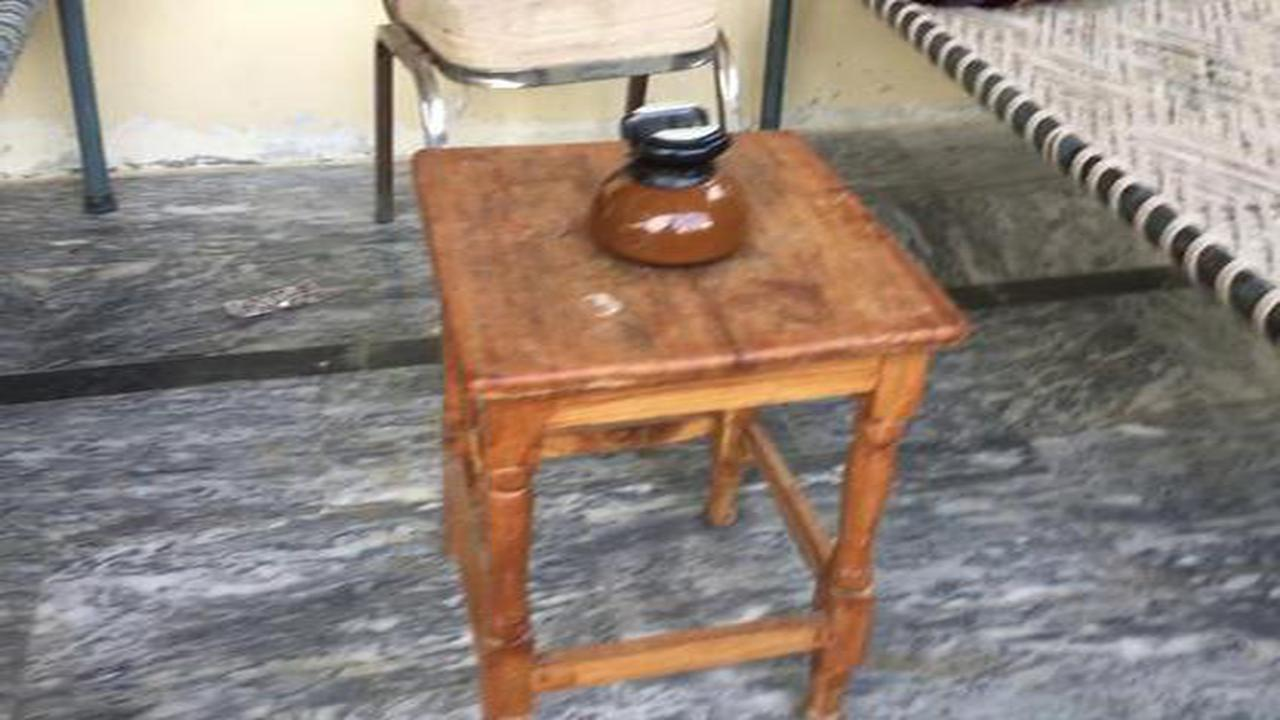insulator_pin: (564, 87, 770, 283)
